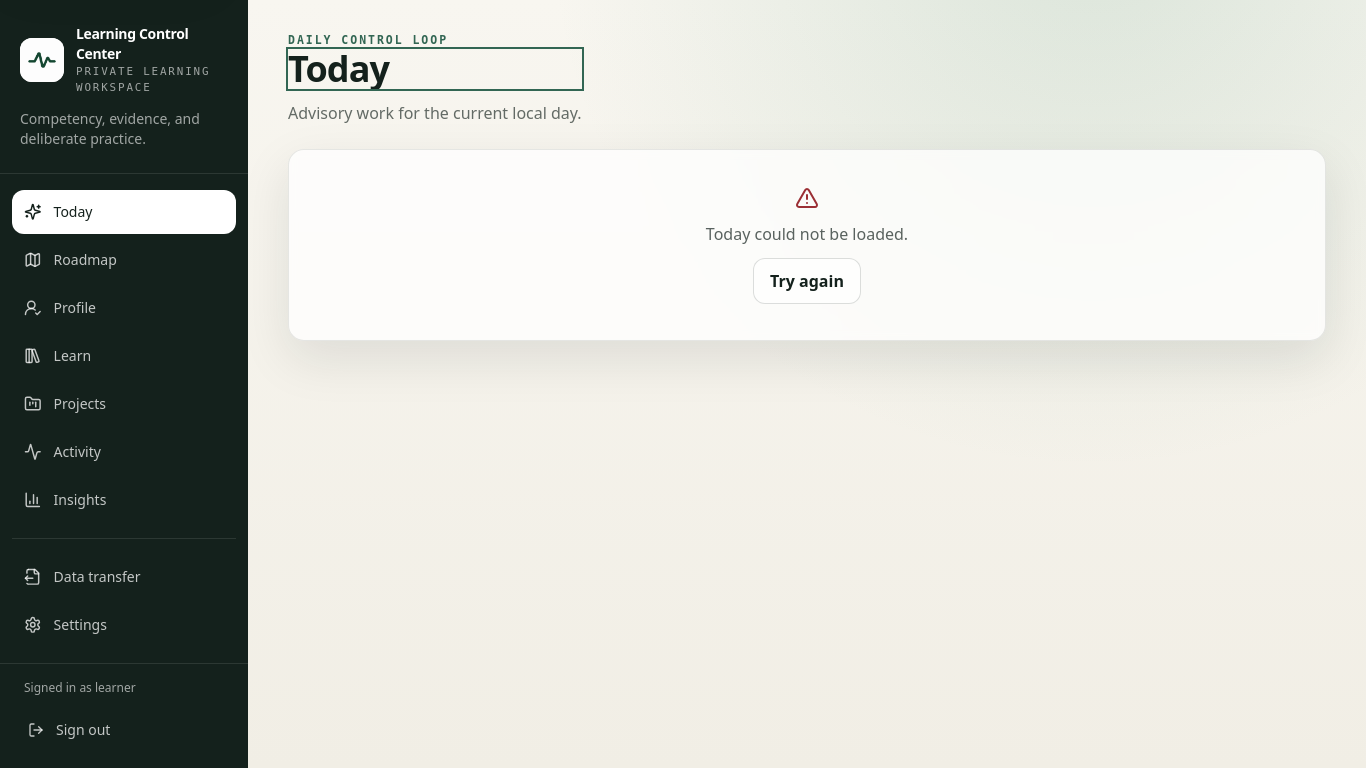
it: learning-control authority routing › makes Today V2 the default after activation and keeps labeled legacy history discoverable through Insights
This screenshot has width=1366, height=768.
Expected: the heading "Today" is shown, [288,44,389,93]
Click the link "Insights".
click(65, 499)  # box [24,490,106,509]
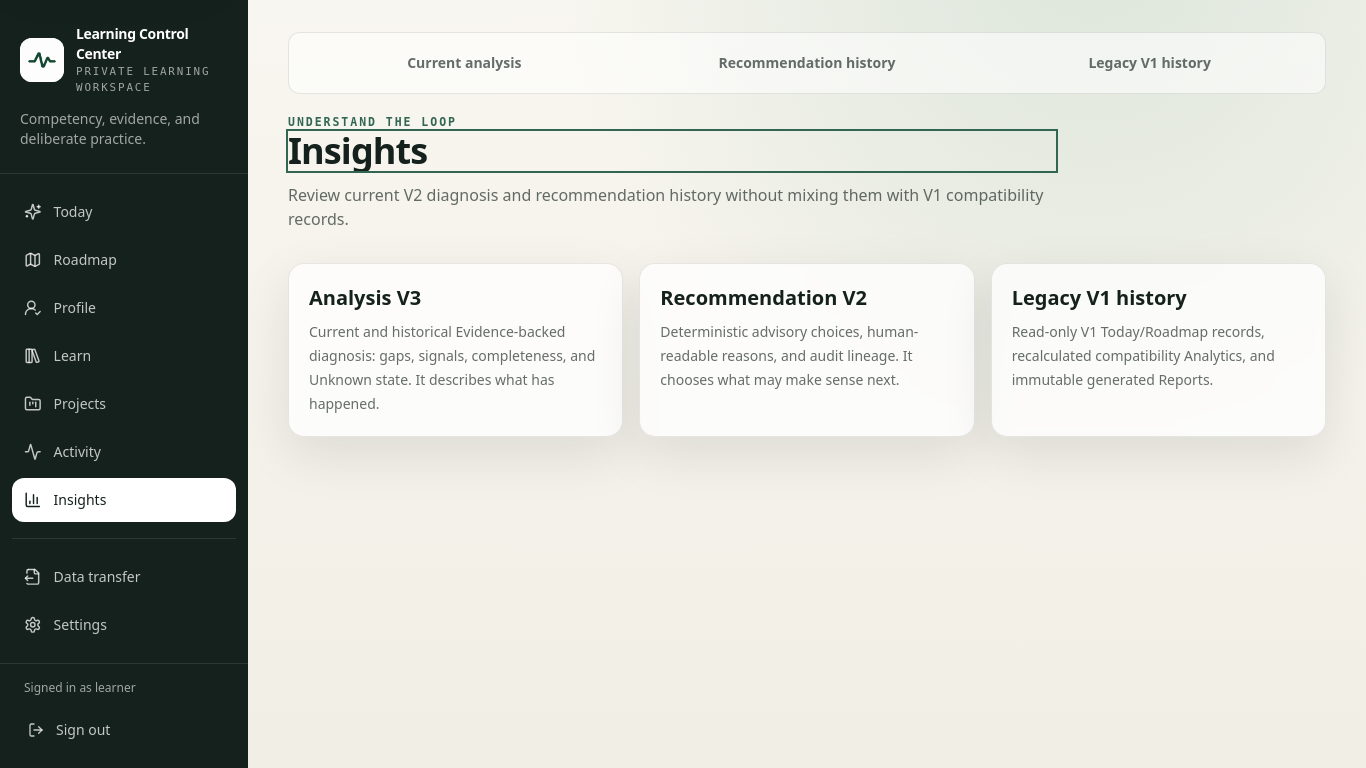
Expected: the heading "Insights" is shown, [288,126,427,175]
